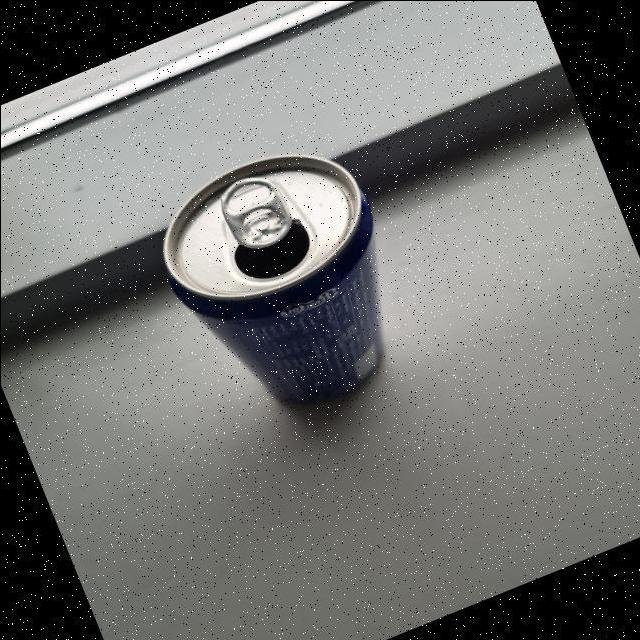can: (138, 124, 438, 453)
